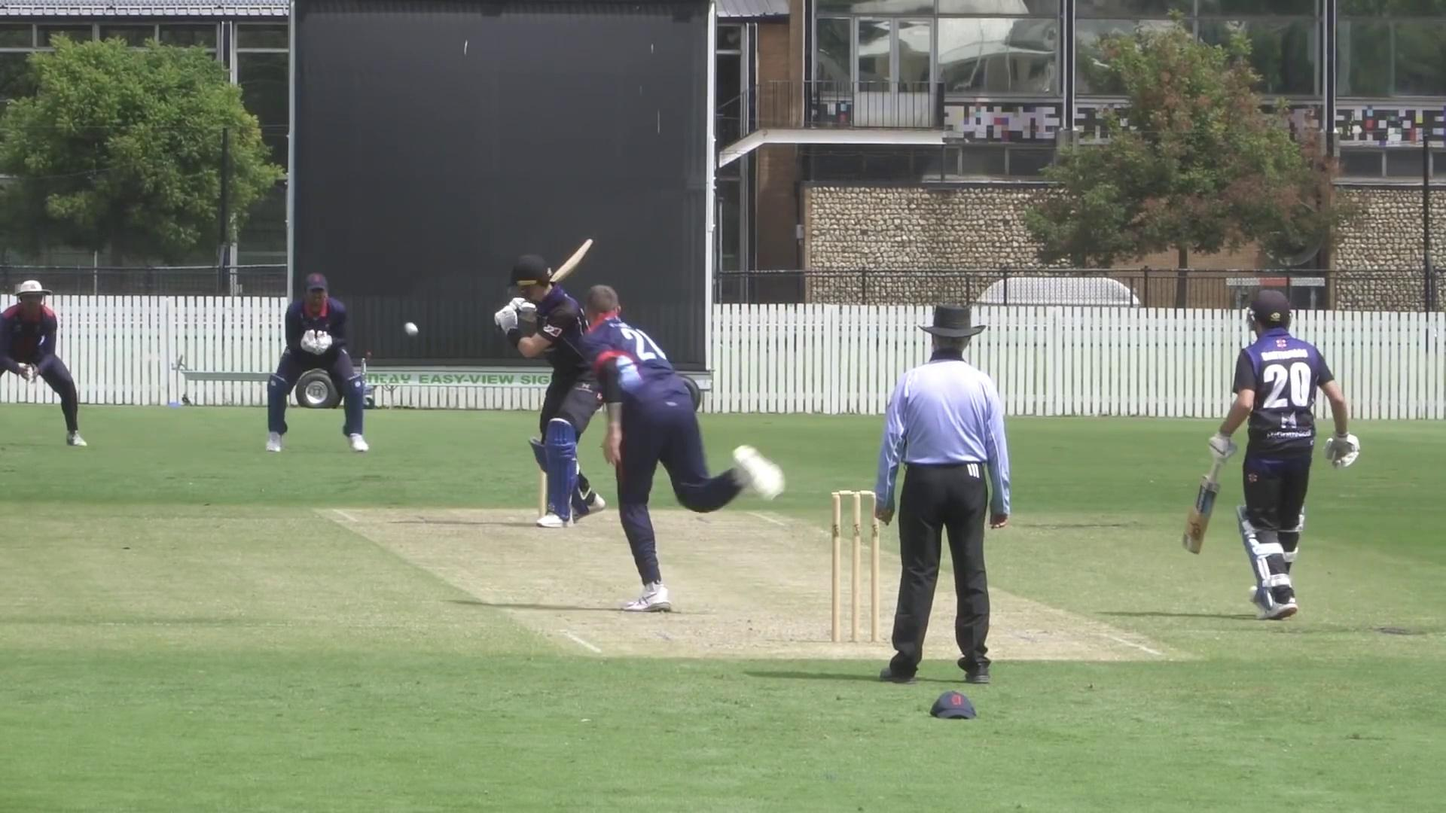ball: (401, 318, 423, 341)
